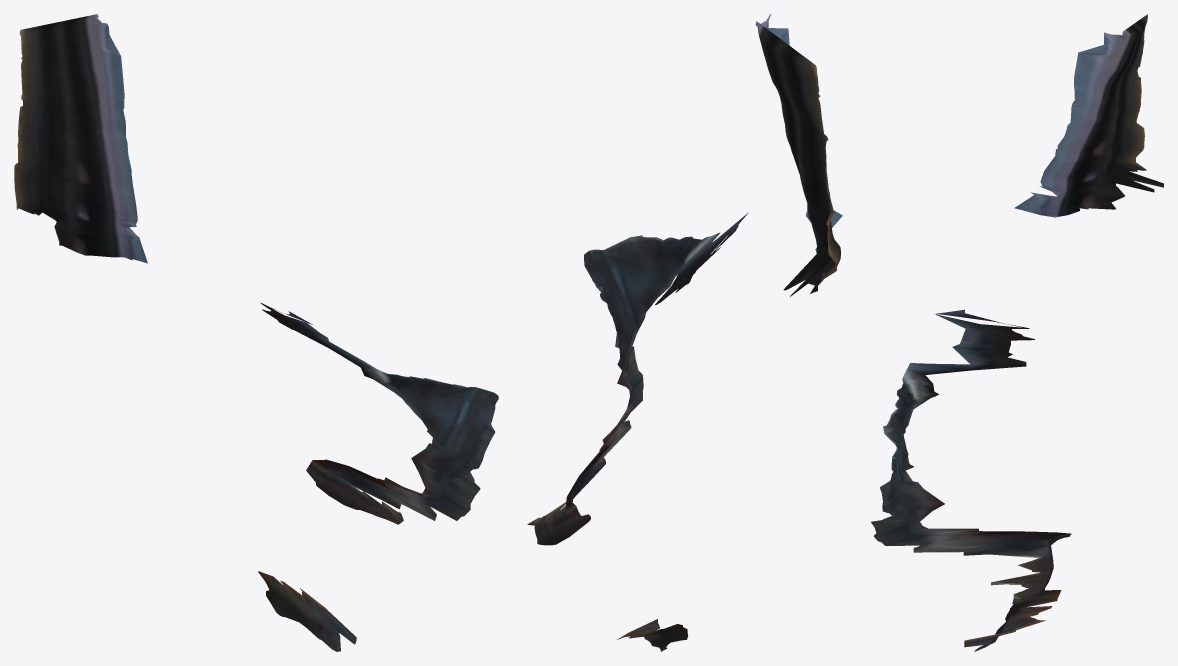
The model's file is observed-surface.glb.
3 renders of one model, left to right at view 1: azimuth 30°, elevation 25°; view 2: azimuth 150°, elevation 25°; view 3: azimuth 270°, elevation 25°, orthographic. The views are drawn at different scales.
Visible parts, largest first — view 1: geometry_0; view 2: geometry_0; view 3: geometry_0.
Part boxes in pixels (box(x1,y1,x2,y2)): geometry_0: box(14, 14, 498, 651); geometry_0: box(527, 14, 842, 651); geometry_0: box(871, 14, 1163, 651).
Size of the model in its own units: 0.3931 by 0.6698 by 0.3229.
Materials: 1 (1 with a texture image).
